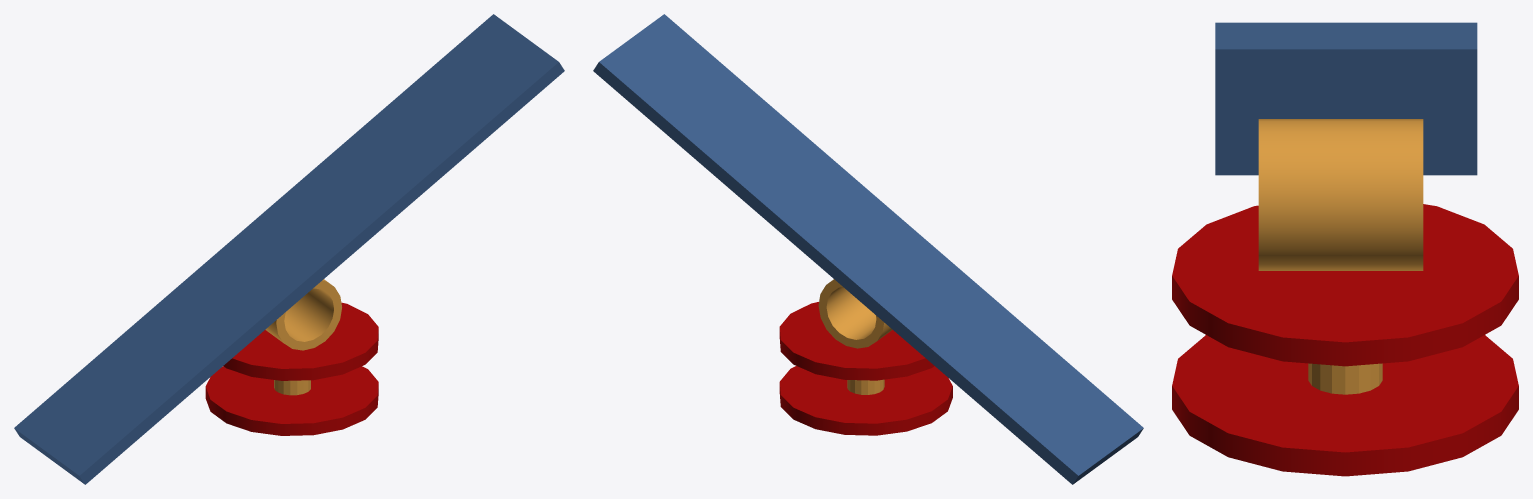
File: F_Balance_01.fbx
3 renders of one model, left to right at view 1: azimuth 30°, elevation 25°; view 2: azimuth 150°, elevation 25°; view 3: azimuth 270°, elevation 25°, orthographic. The views are drawn at different scales.
Visible parts, largest first — view 1: F_Balance_01; view 2: F_Balance_01; view 3: F_Balance_01.
Part boxes in pixels (bbox=[...]): F_Balance_01: bbox=[14, 14, 564, 484]; F_Balance_01: bbox=[593, 14, 1143, 484]; F_Balance_01: bbox=[1172, 22, 1518, 476].
Bounding box in the file's own units: 125 × 75.37 × 38.52.
